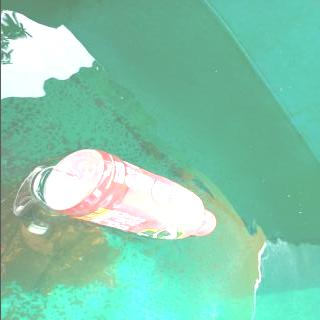bottle: (39, 148, 218, 242)
